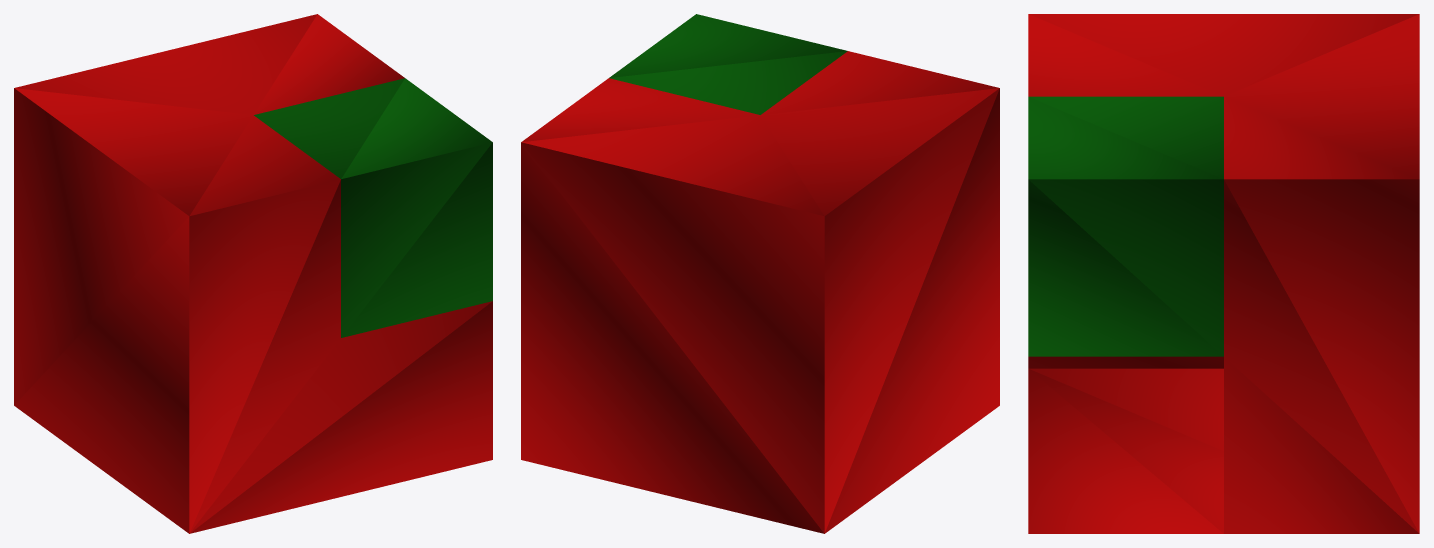
The model's file is apple.fbx.
The picture shows the model from 3 angles, left to right: view 1: azimuth 30°, elevation 25°; view 2: azimuth 150°, elevation 25°; view 3: azimuth 270°, elevation 25°; orthographic projection. The views are drawn at different scales.
Parts seen in each view (by area): view 1: apple; view 2: apple; view 3: apple.
Boxes of the visible parts, bbox=[...] form: apple: bbox=[14, 14, 492, 533]; apple: bbox=[521, 14, 999, 533]; apple: bbox=[1028, 14, 1419, 533].
Size of the model in its own units: 20 by 20 by 20.
1 material, 1 textured.
